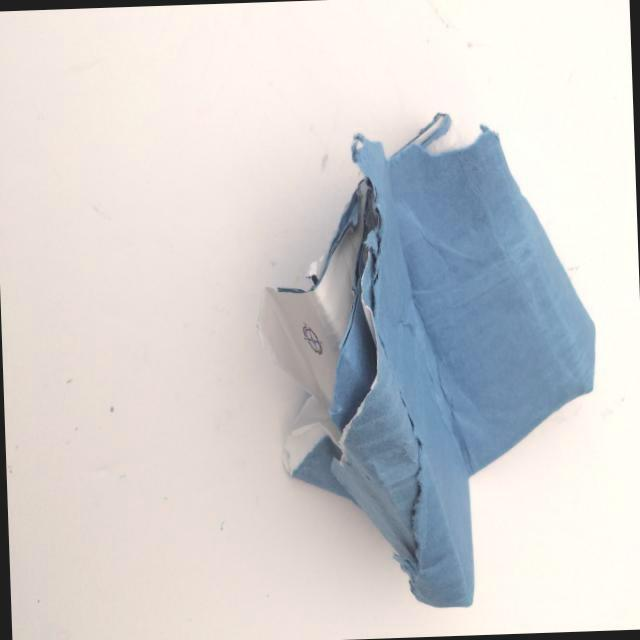cardboard: (243, 85, 616, 620)
